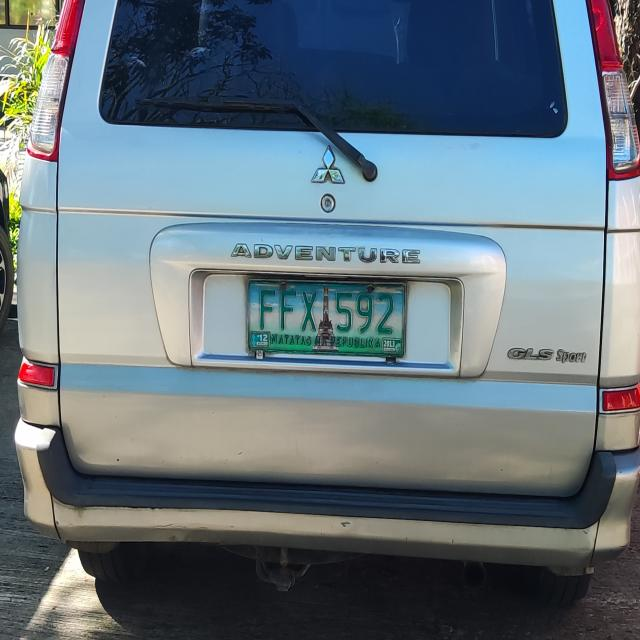plate: (244, 274, 410, 362)
